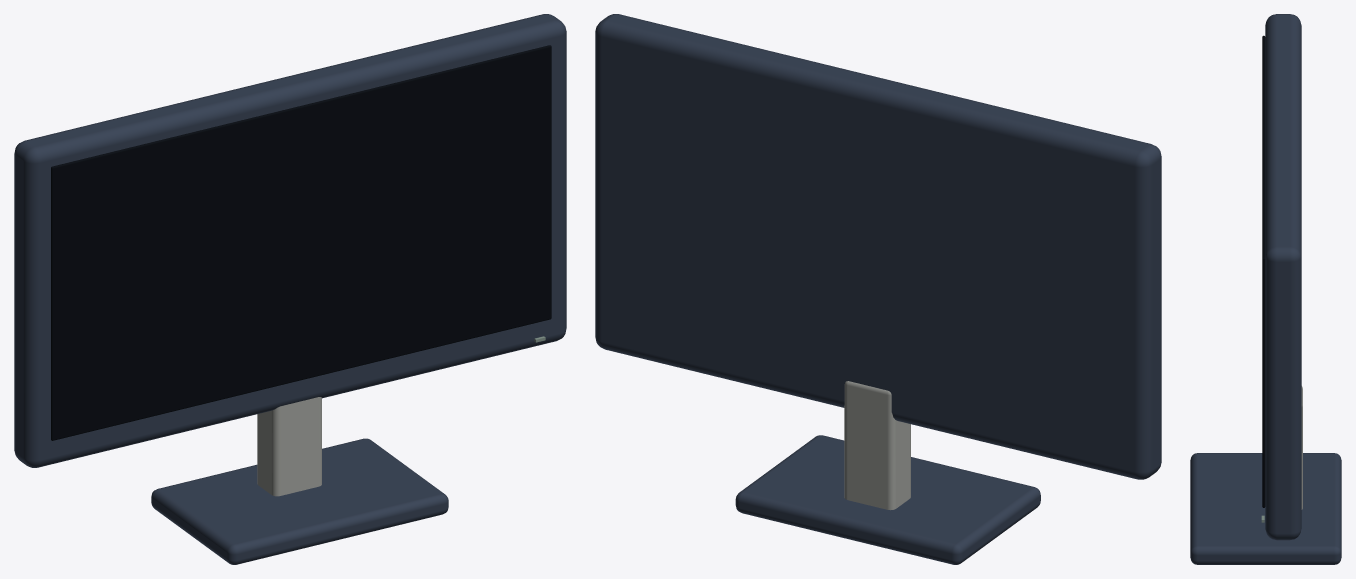
Rendered from room-computer-screen.glb.
3 views of the same model, side by side, from view 1: azimuth 30°, elevation 25°; view 2: azimuth 150°, elevation 25°; view 3: azimuth 270°, elevation 25° (orthographic). The views are drawn at different scales.
Parts seen in each view (by area): view 1: void, frame, trim; view 2: frame, trim; view 3: frame, void, trim.
Boxes of the visible parts, <box> form: void: <box>51,45,551,440</box>; frame: <box>14,14,566,564</box>; trim: <box>257,397,321,496</box>; frame: <box>595,14,1161,564</box>; trim: <box>844,381,910,510</box>; frame: <box>1190,14,1341,564</box>; void: <box>1262,35,1265,507</box>; trim: <box>1301,386,1302,509</box>.
Bounding box in the file's own units: 0.393 × 0.294 × 0.104.
